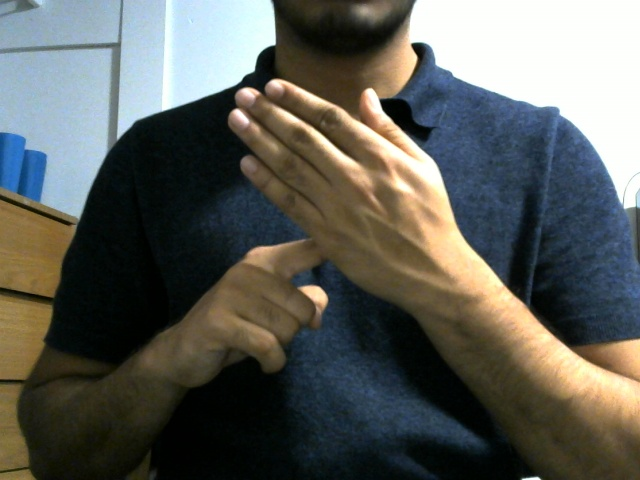Project: (163, 78, 483, 388)
